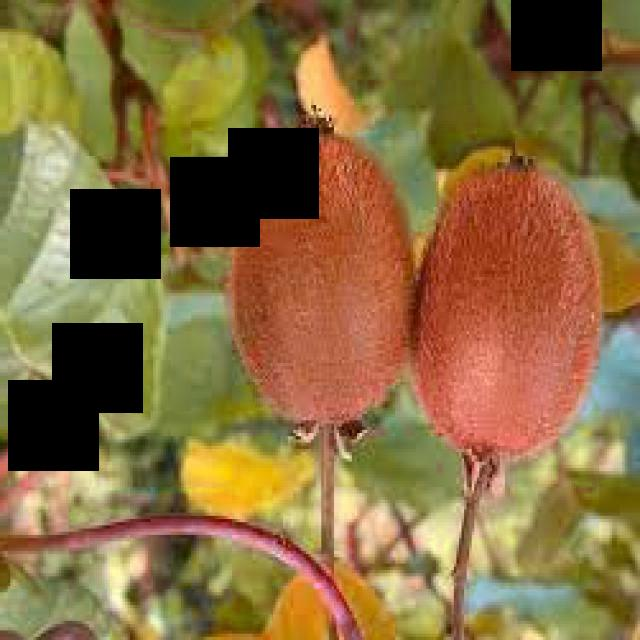kiwi: (231, 103, 417, 450), (417, 154, 606, 494)
